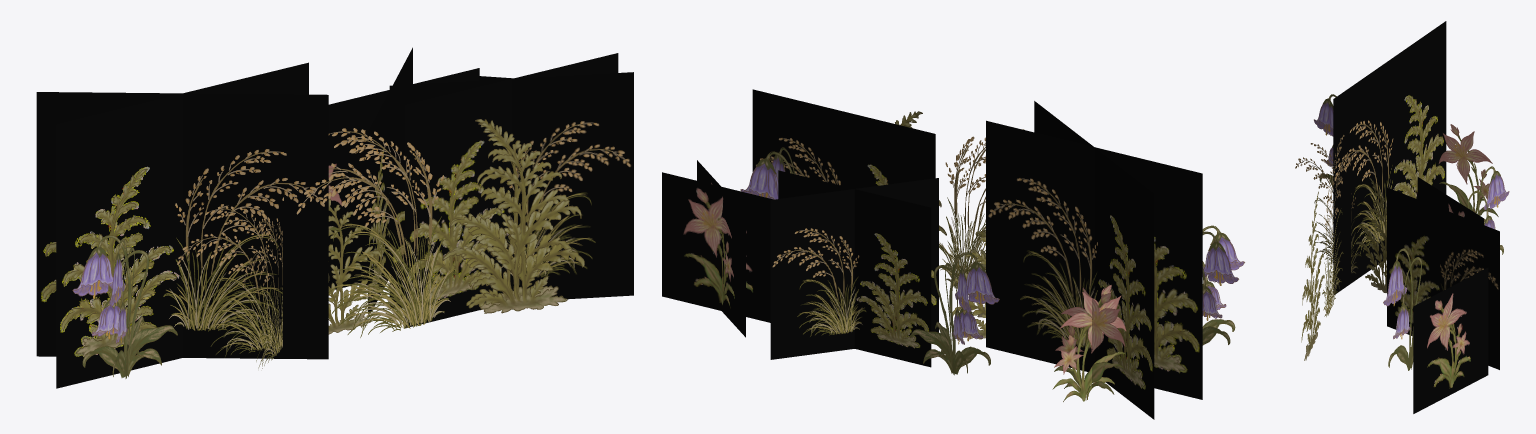
File: flowerArea.fbx
The picture shows the model from 3 angles, left to right: view 1: azimuth 30°, elevation 25°; view 2: azimuth 150°, elevation 25°; view 3: azimuth 270°, elevation 25°; orthographic projection. The views are drawn at different scales.
Visible parts, largest first — view 1: Plane.014, Plane.001, Plane.020, Plane.007, Plane.021, Plane, Plane.006, Plane.009, Plane.017, Plane.016, Plane.010, Plane.015 (+1 smaller); view 2: Plane.001, Plane.016, Plane.010, Plane.014, Plane.007, Plane.008, Plane.018, Plane.002, Plane.011, Plane.005, Plane.021, Plane.009 (+5 smaller); view 3: Plane.014, Plane.016, Plane.018, Plane.021, Plane.015, Plane.011, Plane.019, Plane.004, Plane.013, Plane.012.
Part boxes in pixels (<box>): Plane.014: <box>36,92,328,359</box>; Plane.001: <box>56,62,308,388</box>; Plane.020: <box>389,72,633,308</box>; Plane.007: <box>405,53,618,328</box>; Plane.021: <box>282,122,584,329</box>; Plane: <box>296,119,571,337</box>; Plane.006: <box>177,199,383,356</box>; Plane.009: <box>72,235,177,377</box>; Plane.017: <box>328,139,367,285</box>; Plane.016: <box>368,47,412,317</box>; Plane.010: <box>328,68,479,289</box>; Plane.015: <box>243,217,282,368</box>; Plane.001: <box>986,120,1202,399</box>; Plane.016: <box>770,178,938,359</box>; Plane.010: <box>778,170,931,367</box>; Plane.014: <box>1034,101,1154,419</box>; Plane.007: <box>752,89,935,188</box>; Plane.008: <box>662,172,773,322</box>; Plane.018: <box>697,160,745,337</box>; Plane.002: <box>909,252,999,374</box>; Plane.011: <box>1052,285,1126,401</box>; Plane.005: <box>1054,288,1125,397</box>; Plane.021: <box>895,111,985,288</box>; Plane.009: <box>1202,231,1238,345</box>; Plane.014: <box>1333,21,1446,294</box>; Plane.016: <box>1387,187,1499,369</box>; Plane.018: <box>1413,267,1488,413</box>; Plane.021: <box>1301,135,1350,360</box>; Plane.015: <box>1295,143,1386,292</box>; Plane.011: <box>1438,124,1498,221</box>; Plane.019: <box>1383,248,1421,370</box>; Plane.004: <box>1417,177,1483,224</box>; Plane.013: <box>1467,166,1509,254</box>; Plane.012: <box>1314,94,1336,187</box>.
Size of the model in its own units: 495 by 230 by 209.
